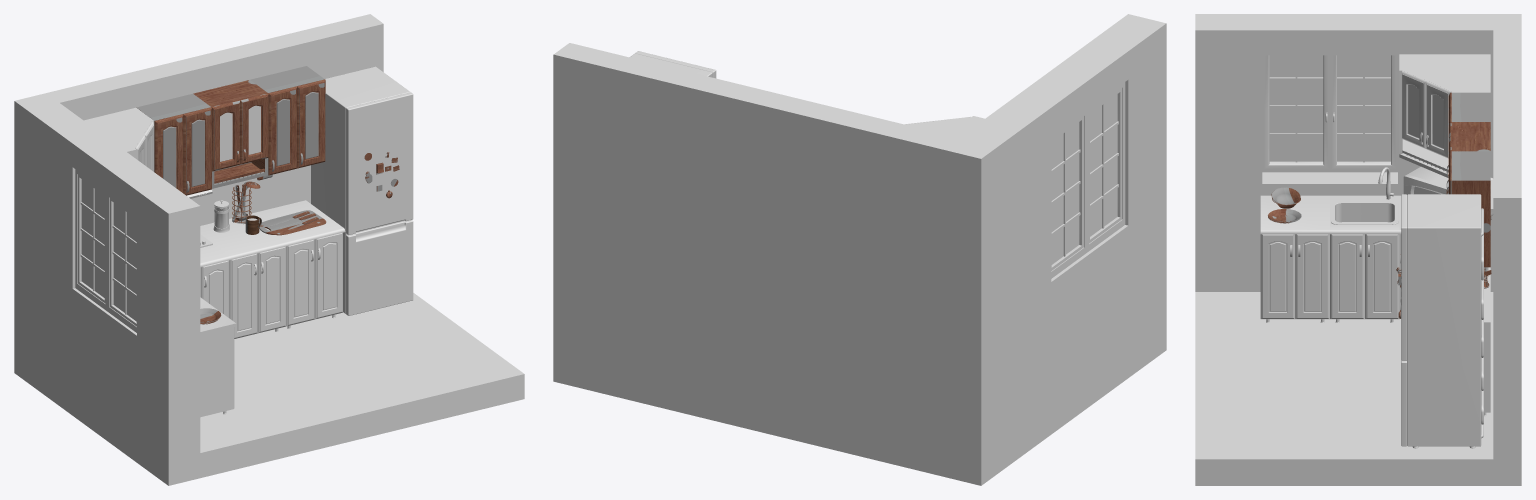
3 views of the same model, side by side, from view 1: azimuth 30°, elevation 25°; view 2: azimuth 150°, elevation 25°; view 3: azimuth 270°, elevation 25° (orthographic). The views are drawn at different scales.
Parts seen in each view (by area): view 1: Os_Плоскость:002, fridge1_low.001, fridge1_low, fridge1_low.002, window4_low, cupboard1_low.004, window1_low, cupboard2_low.003, cupboardup2_low.001, cupboardup2_low, cupboardup2_low.004, cupboard2_low.004 (+16 smaller); view 2: Os_Плоскость:002, window4_low, window1_low, window2_low, cupboardupsbok1_low; view 3: Os_Плоскость:002, fridge1_low, window4_low, window1_low, cupboardupsbok1_low, cupboard2_low.008, cupboard2_low.009, cupboard2_low.006, cupboard2_low.007, cupboardup1_low, cupboard1_low.004, Куб.002 (+16 smaller).
Boxes of the visible parts, x1=… form: Os_Плоскость:002: x1=14, y1=14, x2=524, y2=485; fridge1_low.001: x1=346, y1=92, x2=413, y2=234; fridge1_low: x1=311, y1=66, x2=409, y2=313; fridge1_low.002: x1=346, y1=220, x2=413, y2=315; window4_low: x1=81, y1=179, x2=136, y2=321; cupboard1_low.004: x1=200, y1=299, x2=237, y2=417; window1_low: x1=78, y1=174, x2=136, y2=326; cupboard2_low.003: x1=257, y1=246, x2=286, y2=333; cupboardup2_low.001: x1=268, y1=86, x2=296, y2=175; cupboardup2_low: x1=297, y1=79, x2=325, y2=168; cupboardup2_low.004: x1=183, y1=107, x2=211, y2=195; cupboard2_low.004: x1=286, y1=239, x2=314, y2=326; Os_Плоскость:002: x1=553, y1=14, x2=1166, y2=485; window4_low: x1=1051, y1=94, x2=1117, y2=264; window1_low: x1=1051, y1=88, x2=1122, y2=270; window2_low: x1=1051, y1=82, x2=1125, y2=278; cupboardupsbok1_low: x1=906, y1=116, x2=984, y2=137; Os_Плоскость:002: x1=1195, y1=14, x2=1521, y2=485; fridge1_low: x1=1407, y1=194, x2=1481, y2=446; window4_low: x1=1269, y1=55, x2=1390, y2=161; window1_low: x1=1264, y1=55, x2=1396, y2=169; cupboardupsbok1_low: x1=1399, y1=54, x2=1490, y2=177; cupboard2_low.008: x1=1260, y1=234, x2=1295, y2=319; cupboard2_low.009: x1=1295, y1=234, x2=1329, y2=319; cupboard2_low.006: x1=1330, y1=234, x2=1364, y2=319; cupboard2_low.007: x1=1364, y1=234, x2=1399, y2=319; cupboardup1_low: x1=1451, y1=151, x2=1490, y2=267; cupboard1_low.004: x1=1260, y1=195, x2=1329, y2=234; Куб.002: x1=1331, y1=201, x2=1398, y2=224.
Bounding box in the file's own units: 438 × 320 × 328.
